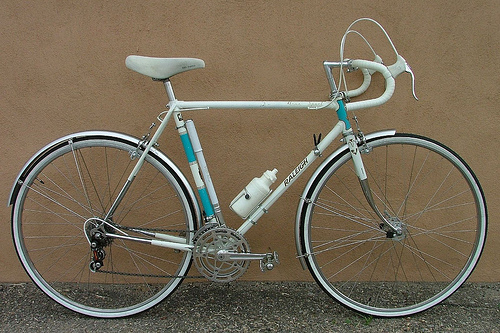bicycle: (1, 10, 495, 327)
